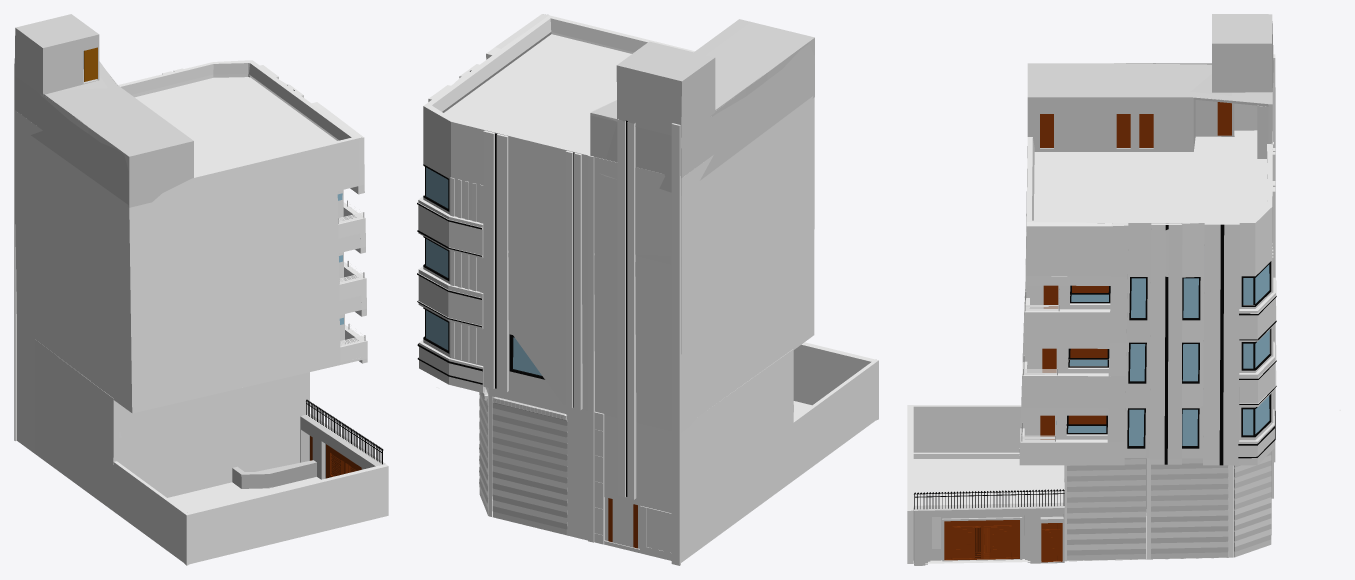
Rendered from office.fbx.
The picture shows the model from 3 angles, left to right: view 1: azimuth 30°, elevation 25°; view 2: azimuth 150°, elevation 25°; view 3: azimuth 270°, elevation 25°; orthographic projection. The views are drawn at different scales.
Visible parts, largest first — view 1: Cube, Cube.001, Cube.005, Cube.541, Cube.021, Cube.056, Cube.926, Cube.032, Cube.037; view 2: Cube, Cube.001, Cube.005, Cube.942, Cube.541, Cube.257, Cube.031, Cube.006, Cube.032, Cube.028, Cube.038, Cube.027 (+2 smaller); view 3: Cube, Cube.005, Cube.001, Cube.2509, Cube.919, Cube.541, Cube.021, Cube.026, Cube.037, Cube.020, Cube.926, Cube.035 (+1 smaller).
Boxes of the visible parts, x1,y1,x2,y2 form: Cube: (15, 60, 367, 413); Cube.001: (17, 330, 388, 565); Cube.005: (14, 61, 193, 207); Cube.541: (14, 14, 99, 94); Cube.021: (300, 414, 385, 479); Cube.056: (241, 460, 316, 488); Cube.926: (306, 401, 382, 464); Cube.032: (14, 63, 16, 441); Cube.037: (326, 444, 344, 478); Cube: (417, 14, 814, 432); Cube.001: (485, 342, 878, 562); Cube.005: (590, 19, 814, 195); Cube.942: (492, 396, 567, 534); Cube.541: (616, 41, 715, 137); Cube.257: (617, 119, 636, 499); Cube.031: (483, 130, 508, 392); Cube.006: (565, 150, 582, 410); Cube.032: (671, 123, 680, 565); Cube.028: (588, 155, 594, 542); Cube.038: (640, 506, 671, 560); Cube.027: (594, 411, 604, 544); Cube: (1019, 130, 1340, 465); Cube.005: (1027, 63, 1273, 158); Cube.001: (907, 405, 1233, 563); Cube.2509: (1067, 458, 1145, 560); Cube.919: (1150, 458, 1228, 559); Cube.541: (1212, 14, 1273, 92); Cube.021: (913, 502, 1064, 565); Cube.026: (1234, 452, 1271, 557); Cube.037: (982, 520, 1045, 561); Cube.020: (944, 520, 982, 560); Cube.926: (914, 491, 1064, 509); Cube.035: (1041, 523, 1062, 562).
Bounding box in the file's own units: 1461 × 2468 × 2171.
